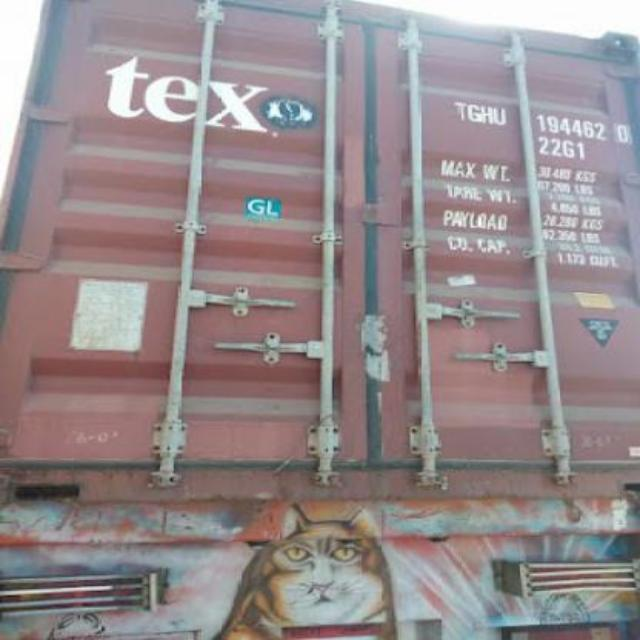0: (614, 118, 630, 146)
1: (532, 105, 548, 134)
2: (596, 116, 610, 140)
4: (570, 112, 584, 138), (558, 113, 572, 137)
6: (582, 112, 596, 142)
9: (546, 111, 558, 132)
G: (466, 99, 482, 125)
H: (480, 99, 492, 128)
T: (450, 91, 468, 121)
U: (492, 100, 510, 130)
